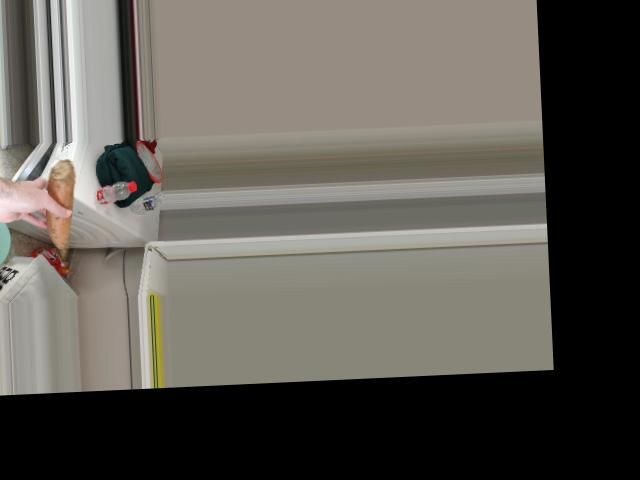sweet_potato: (45, 172, 69, 248)
